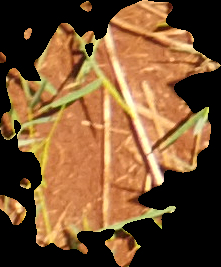soil: (1, 1, 221, 266)
